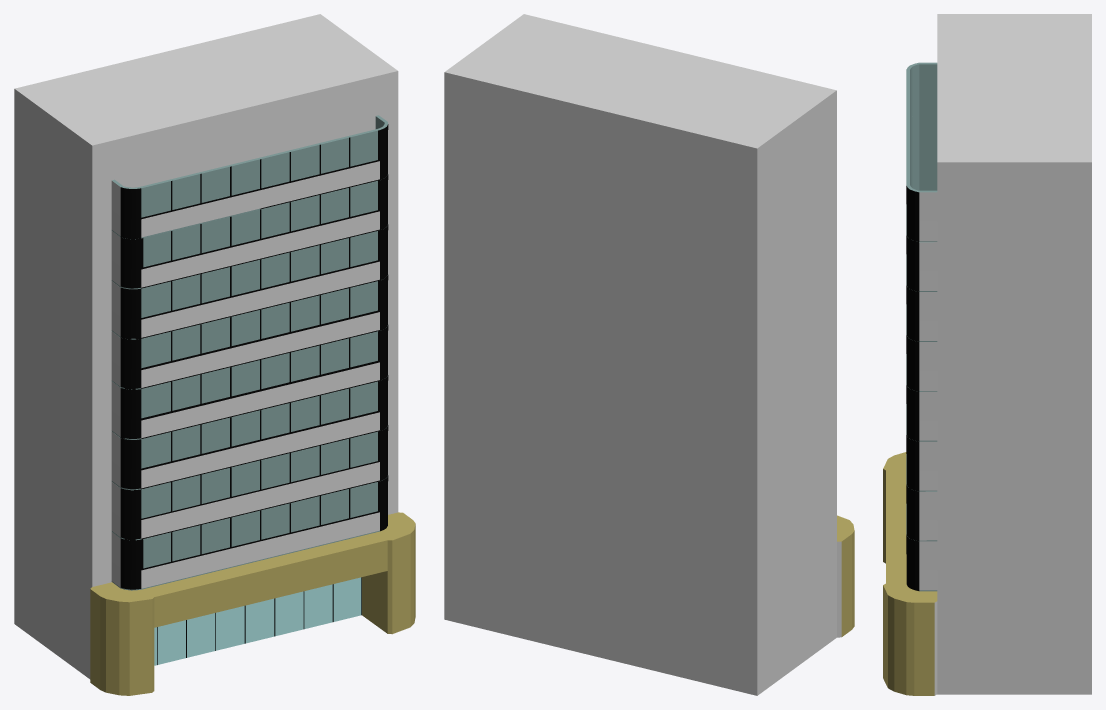
Rendered from Skyscraper1.fbx.
The picture shows the model from 3 angles, left to right: view 1: azimuth 30°, elevation 25°; view 2: azimuth 150°, elevation 25°; view 3: azimuth 270°, elevation 25°; orthographic projection. The views are drawn at different scales.
Visible parts, largest first — view 1: Cube; view 2: Cube; view 3: Cube.
Boxes of the visible parts, x1,y1,x2,y2 form: Cube: (14, 14, 415, 695); Cube: (444, 14, 854, 695); Cube: (883, 14, 1091, 695).
Size of the model in its own units: 20196 by 33035 by 11746.
